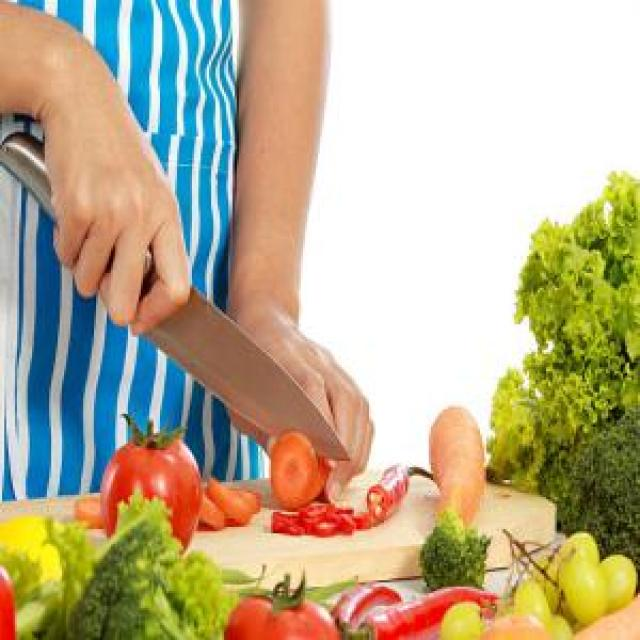knife: (0, 128, 354, 469)
